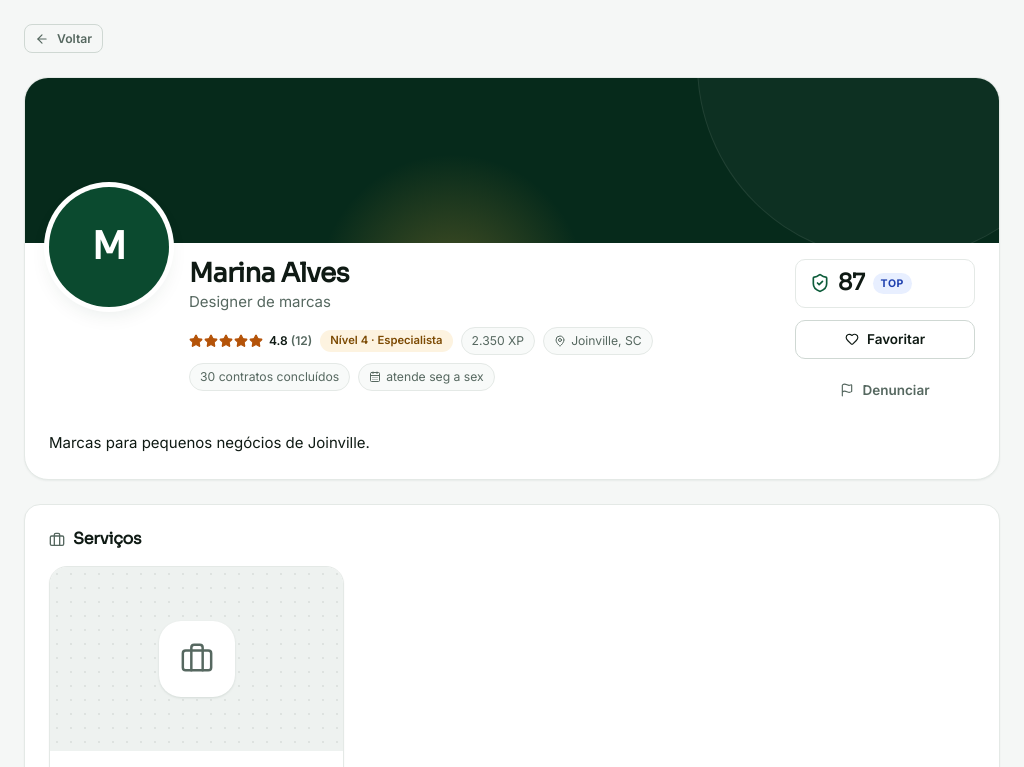
Test: FreelancerView: favoritar › favoritar manda o freelancer para os favoritos e o botão passa a "Favorito"
The width and height of the screenshot is (1024, 767).
Step 1. Click the button "Favoritar" → click(885, 339), box left=795, top=320, right=975, bottom=359
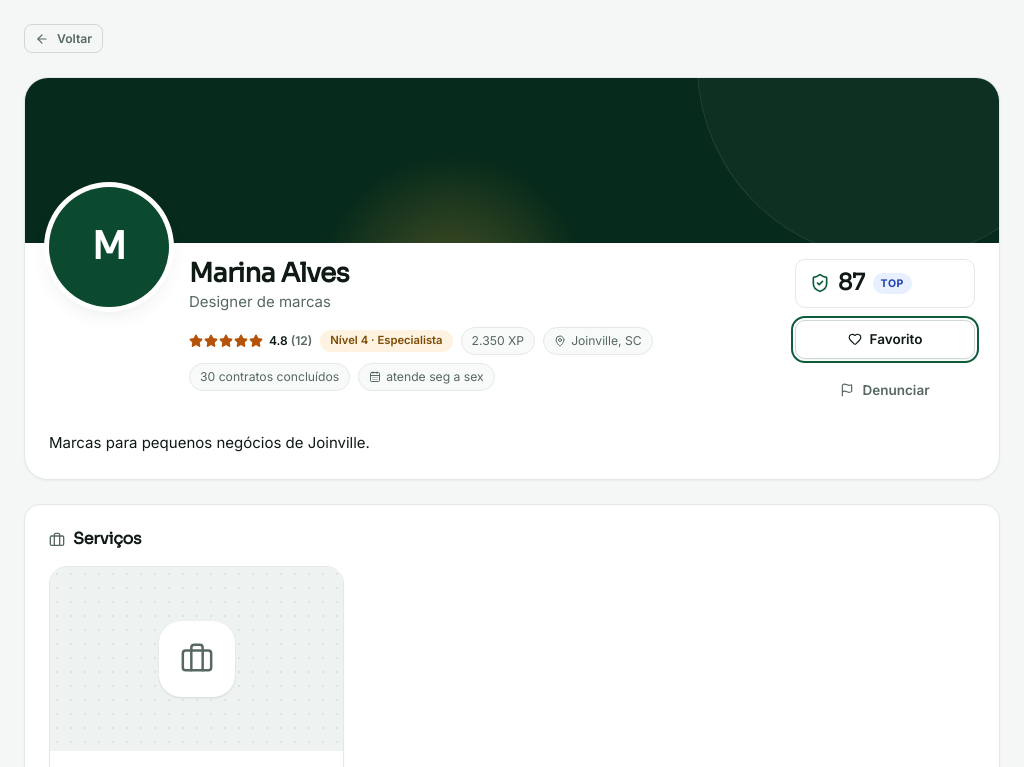
Expected: the button "Favorito" is shown, left=795, top=320, right=975, bottom=359
